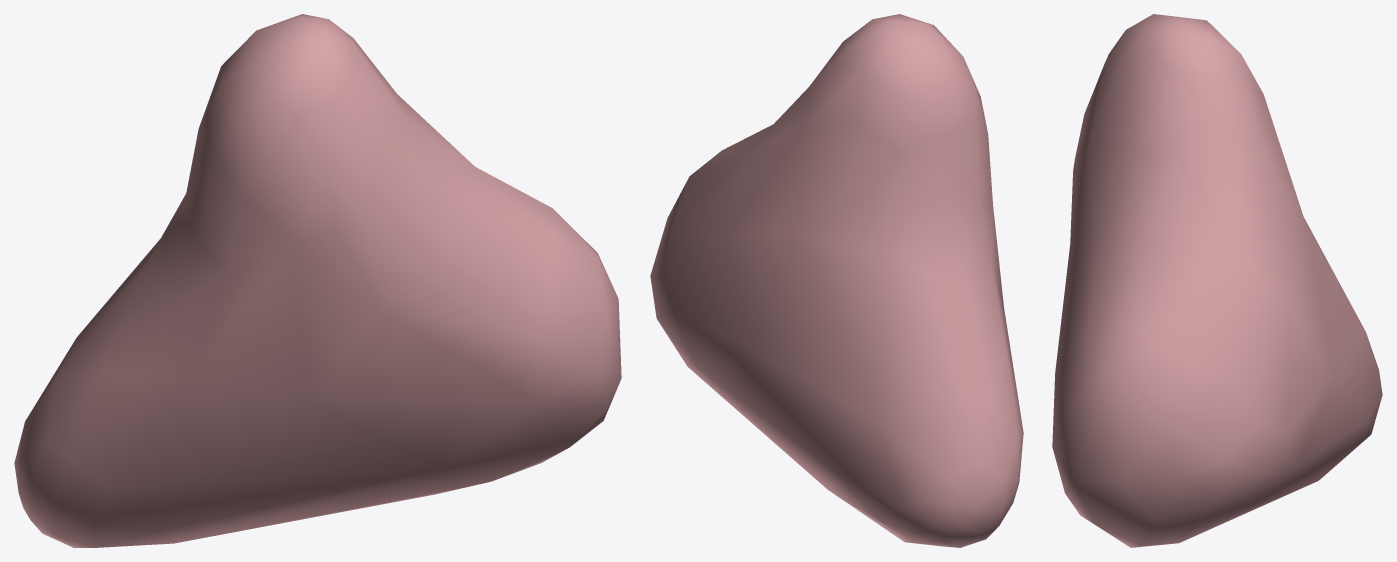
The model's file is fma78433_mm2234m.glb.
3 renders of one model, left to right at view 1: azimuth 30°, elevation 25°; view 2: azimuth 150°, elevation 25°; view 3: azimuth 270°, elevation 25°, orthographic. The views are drawn at different scales.
Parts seen in each view (by area): view 1: FMA78433_MM2234M; view 2: FMA78433_MM2234M; view 3: FMA78433_MM2234M.
Part boxes in pixels (box(x1,y1,x2,y2)): FMA78433_MM2234M: box(14, 14, 621, 547); FMA78433_MM2234M: box(650, 14, 1023, 547); FMA78433_MM2234M: box(1052, 14, 1382, 547).
Size of the model in its own units: 0.00258 by 0.00272 by 0.00164.
